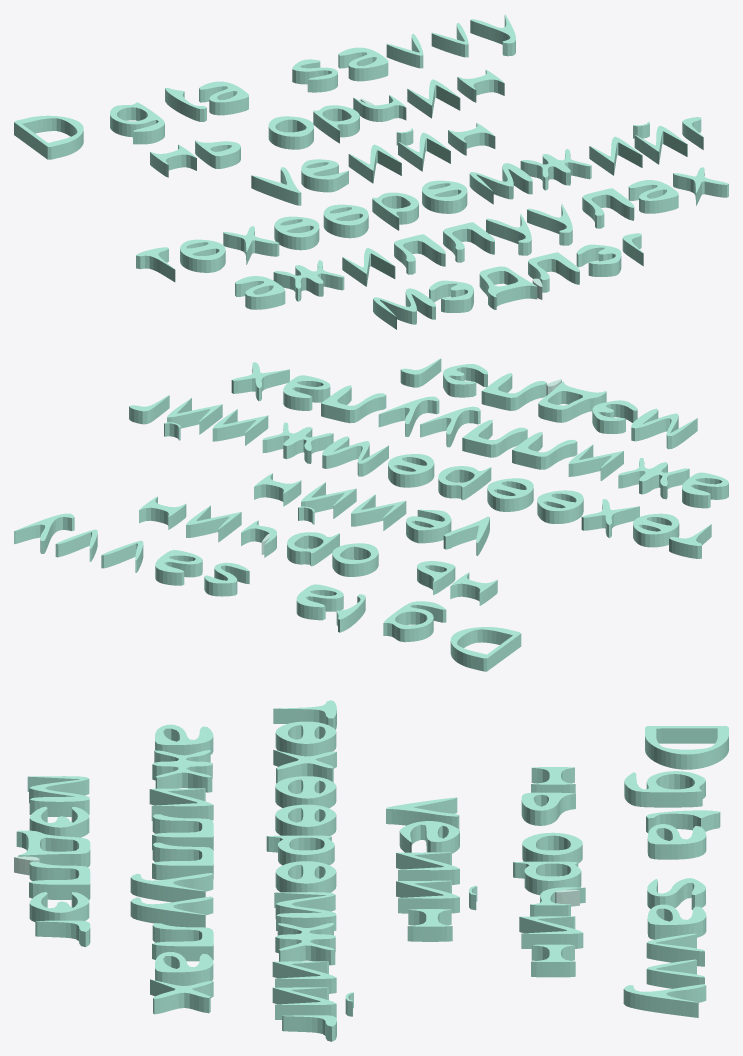
The picture shows the model from 3 angles, top to bottom: view 1: azimuth 30°, elevation 25°; view 2: azimuth 150°, elevation 25°; view 3: azimuth 270°, elevation 25°; orthographic projection. The views are drawn at different scales.
Visible parts, largest first — view 1: imagetostl_mesh; view 2: imagetostl_mesh; view 3: imagetostl_mesh.
Boxes of the visible parts, left/top/right/bottom form: imagetostl_mesh: left=14, top=14, right=728, bottom=329; imagetostl_mesh: left=14, top=358, right=728, bottom=671; imagetostl_mesh: left=14, top=700, right=728, bottom=1041.
Bounding box in the file's own units: 91.99 × 2 × 85.1.
